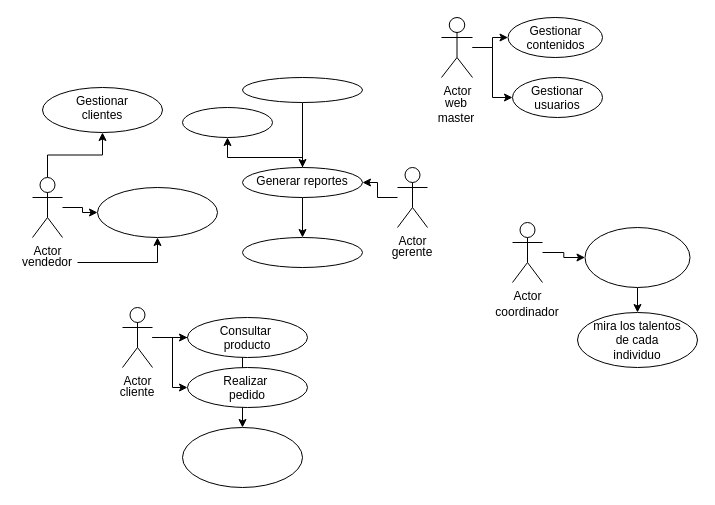
This 715x505 diagram has some shape labels left out. The box of each missing label's shape, as (x1, y1, x2, y2) in pixels:
Clientes: (242, 76, 362, 102)
Consultar pedidos: (96, 186, 218, 238)
coordinar de que todo se haga bien: (584, 226, 690, 288)
Entrar en la plataforma: (182, 426, 302, 488)
Pedidos: (182, 106, 272, 138)
Productos: (242, 236, 362, 268)
